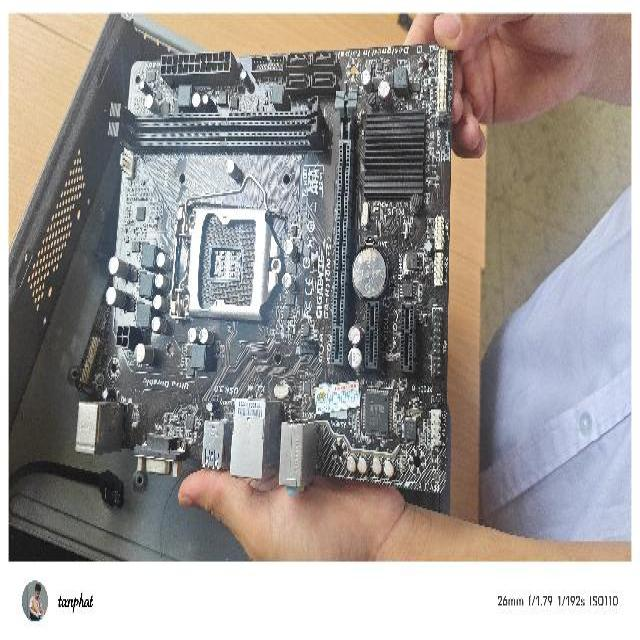Mainboard: (70, 39, 454, 504)
